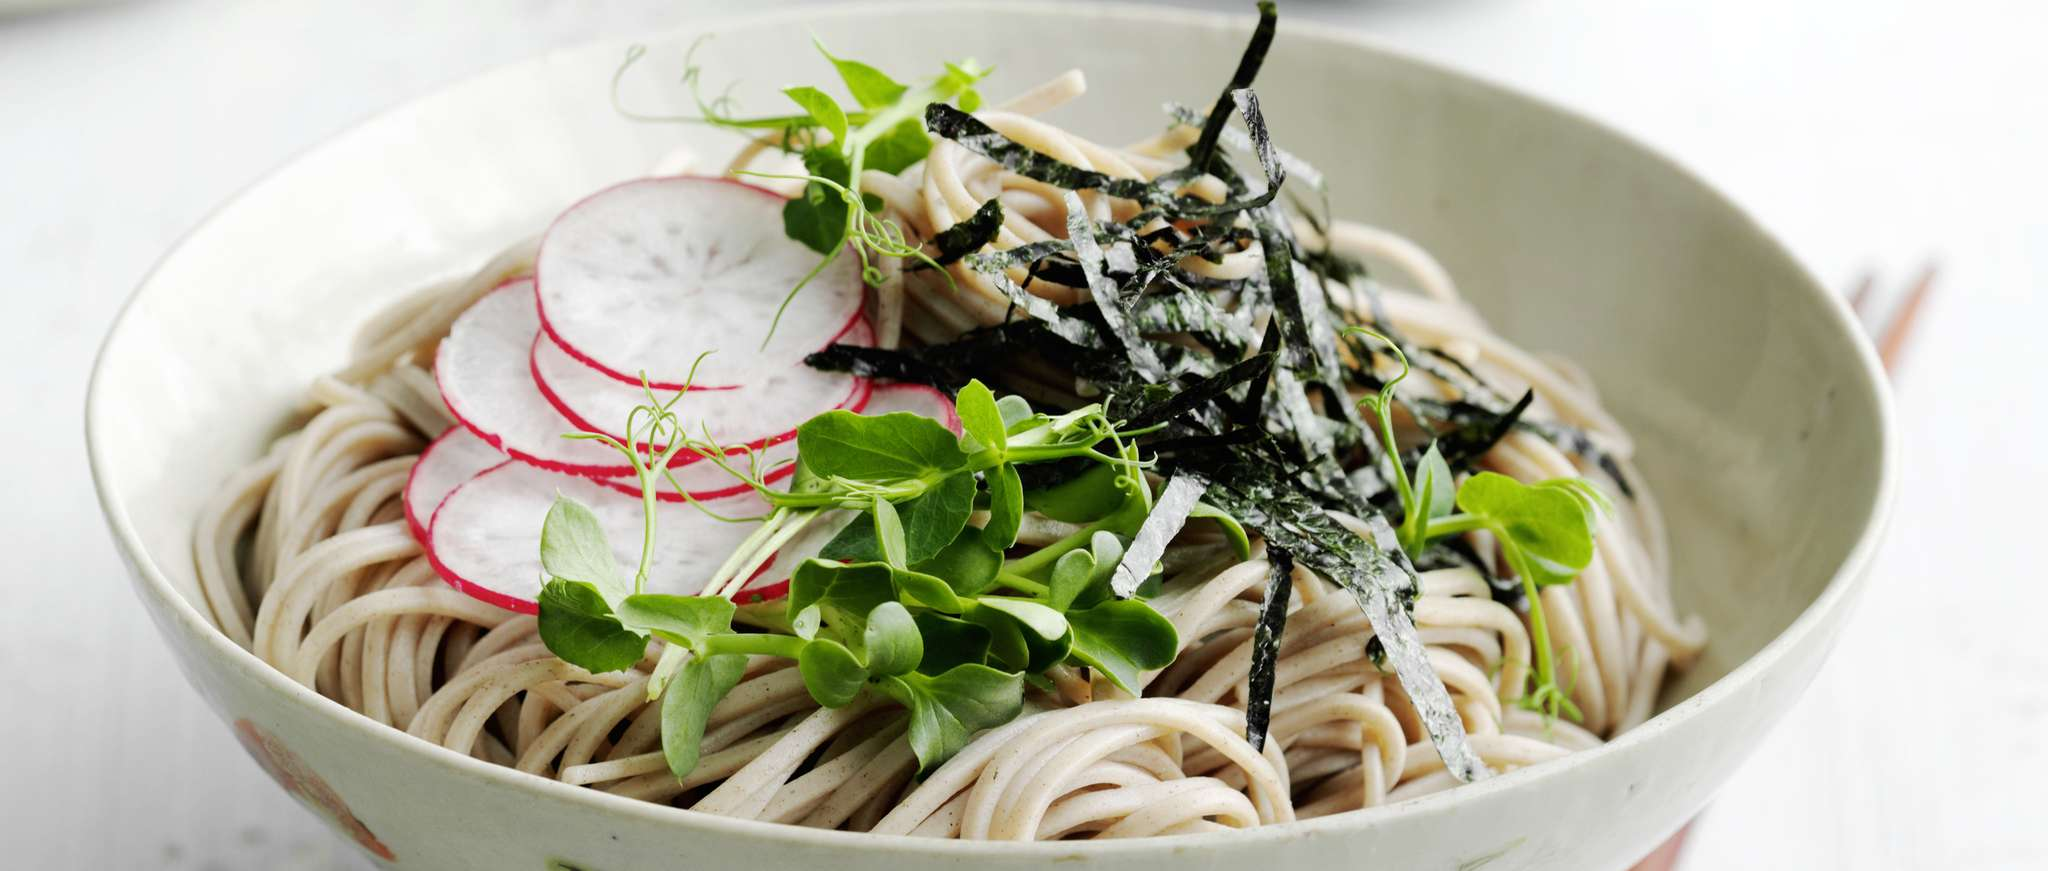Soba: (227, 97, 1735, 838)
